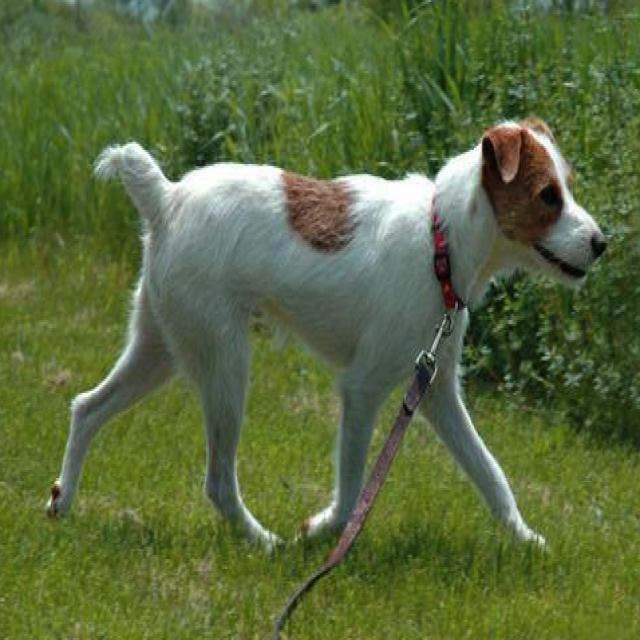Dog: (479, 91, 614, 330)
